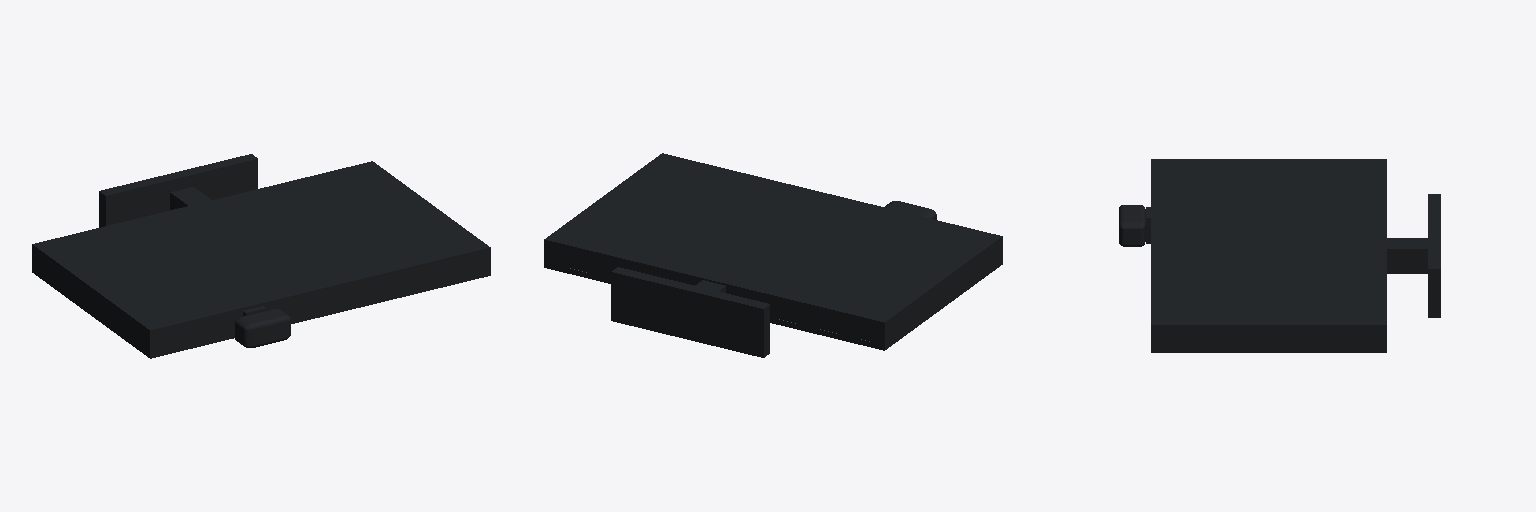
Rendered from monitor.obj.
3 views of the same model, side by side, from view 1: azimuth 30°, elevation 25°; view 2: azimuth 150°, elevation 25°; view 3: azimuth 270°, elevation 25° (orthographic).
Visible parts, largest first — view 1: obj_0; view 2: obj_0; view 3: obj_0.
Boxes of the visible parts, x1=… form: obj_0: x1=32, y1=154, x2=490, y2=358; obj_0: x1=544, y1=153, x2=1002, y2=357; obj_0: x1=1119, y1=159, x2=1440, y2=352.
Bounding box in the file's own units: 29 × 4 × 23.8.